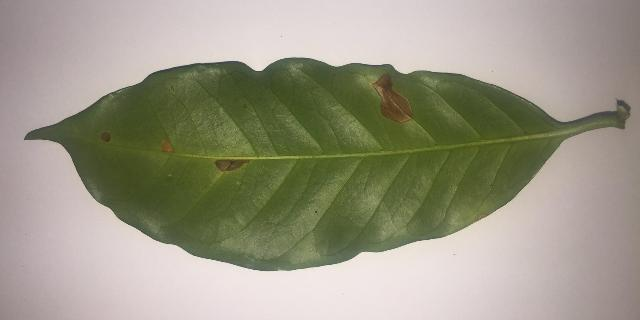cercospora: (371, 72, 412, 123), (215, 159, 248, 171), (162, 139, 173, 152), (100, 132, 111, 142)
